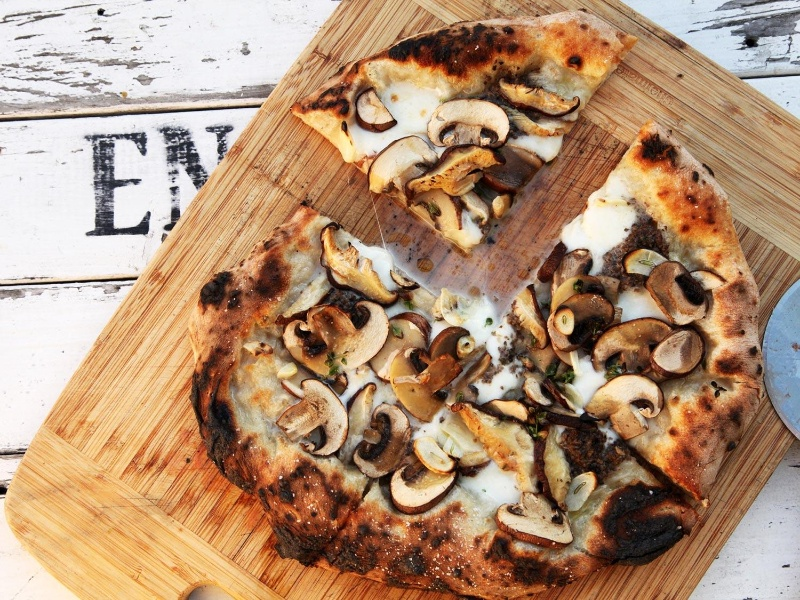champignon: (272, 299, 400, 377), (577, 370, 667, 447), (274, 377, 353, 462), (492, 488, 584, 552), (421, 94, 516, 153), (642, 257, 717, 327), (350, 399, 412, 482), (585, 314, 669, 375), (360, 135, 435, 201)
